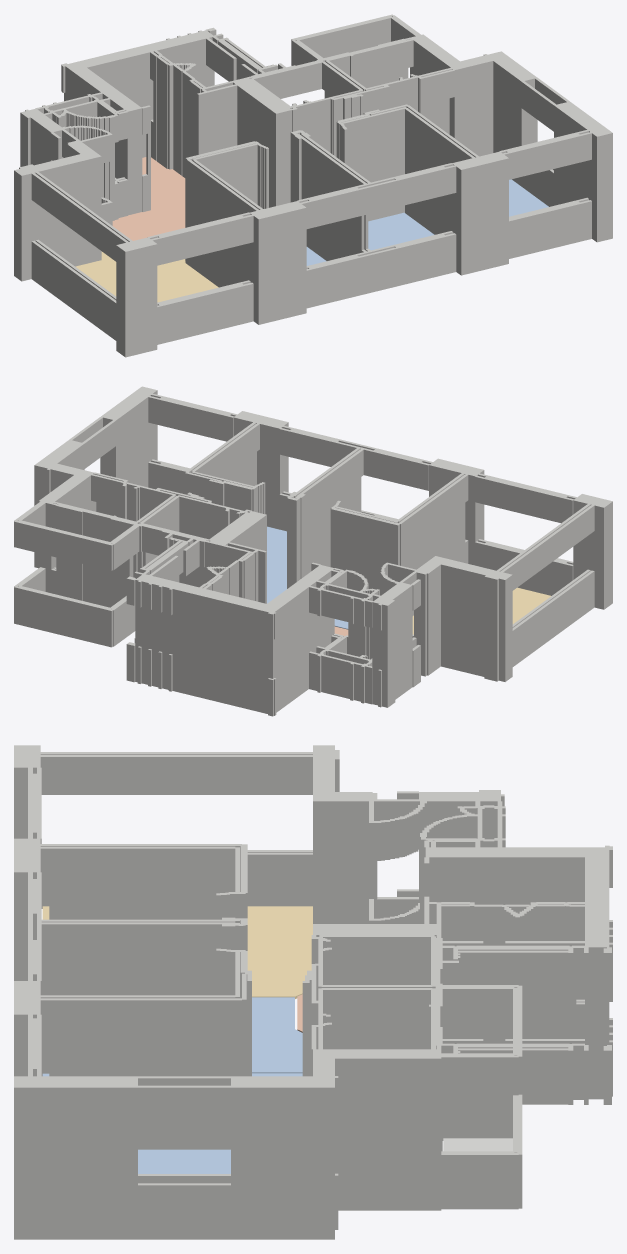
3 renders of one model, top to bottom at view 1: azimuth 30°, elevation 25°; view 2: azimuth 150°, elevation 25°; view 3: azimuth 270°, elevation 25°, orthographic. The views are drawn at different scales.
Parts seen in each view (by area): view 1: walls, room:kitchen:0, room:living:4, room:bedroom:7, room:bedroom:8; view 2: walls, room:bedroom:7, room:living:4; view 3: walls, room:living:4, room:bedroom:5, room:bedroom:8, room:ledge:2.
Boxes of the visible parts, x1,y1,x2,y2 form: walls: (14,14,612,357); room:kitchen:0: (112,157,185,240); room:living:4: (75,251,218,302); room:bedroom:7: (368,212,434,250); room:bedroom:8: (509,179,548,216); walls: (14,386,612,716); room:bedroom:7: (267,526,286,603); room:living:4: (412,587,550,634); walls: (14,745,612,1239); room:living:4: (42,906,312,998); room:bedroom:5: (252,997,302,1073); room:bedroom:8: (138,1149,230,1173); room:ledge:2: (443,1138,512,1151).
Bounding box in the file's own units: 13.53 × 2.8 × 10.
